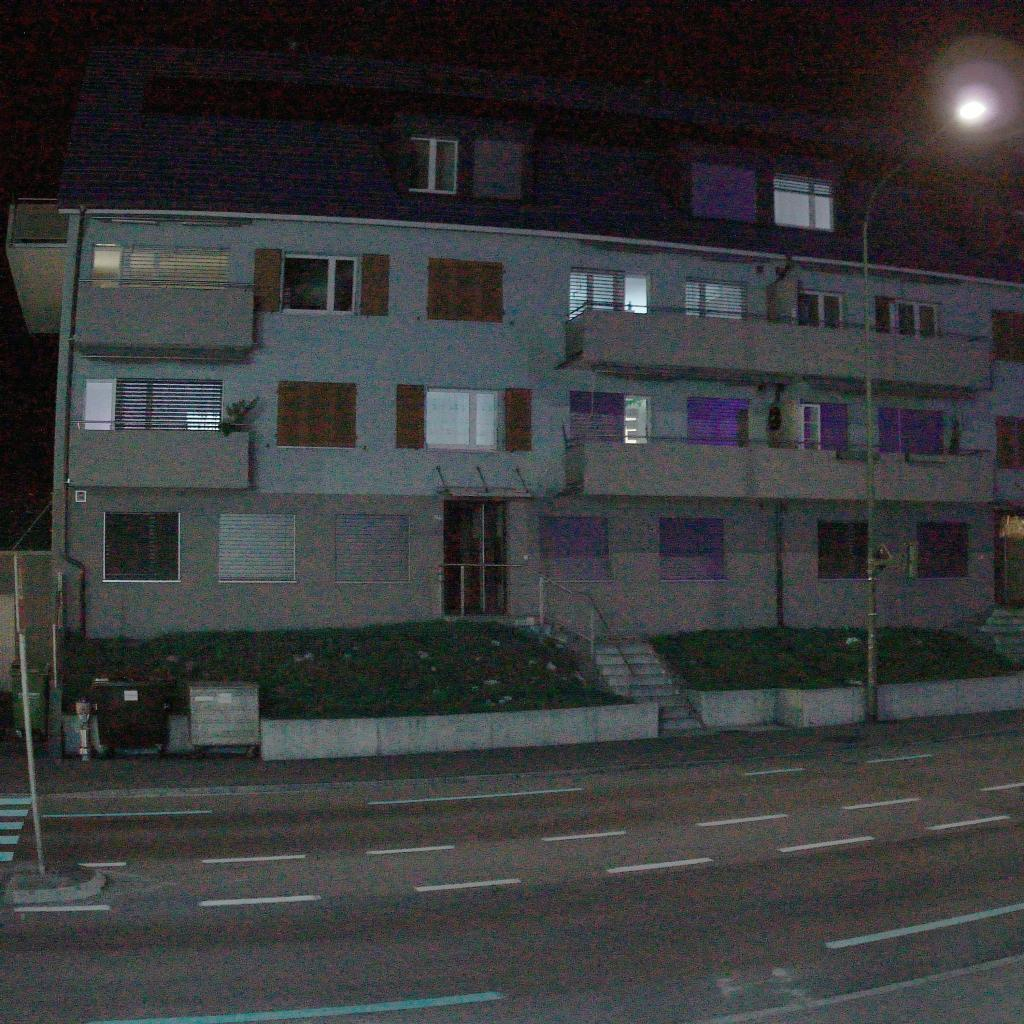balcony-fence: (565, 300, 991, 343), (564, 432, 994, 457), (77, 277, 260, 292), (68, 420, 251, 432)
facade: (4, 43, 1024, 666)
fence: (442, 562, 639, 703), (641, 623, 1024, 693)
non-building-infrastructure: (0, 548, 79, 760), (163, 681, 262, 757)
street: (0, 637, 1024, 1024)
traffic-infrastructure: (861, 100, 986, 721), (5, 549, 110, 906), (76, 697, 93, 761)
vegetation: (58, 619, 625, 748)
window: (81, 378, 223, 431), (89, 243, 231, 287), (276, 381, 358, 448), (103, 512, 181, 582), (333, 514, 411, 583), (218, 514, 295, 583), (535, 517, 612, 582), (567, 389, 653, 444), (425, 388, 500, 450), (429, 257, 501, 321), (282, 254, 358, 314), (656, 518, 726, 580), (570, 268, 649, 319), (691, 164, 756, 224), (815, 519, 877, 580), (772, 173, 834, 230), (685, 396, 751, 446), (404, 136, 458, 194), (916, 521, 970, 579), (879, 407, 944, 455), (472, 142, 523, 199), (798, 401, 850, 453), (684, 278, 747, 319), (873, 298, 939, 336), (797, 290, 843, 327), (993, 310, 1024, 361), (995, 416, 1024, 469)
